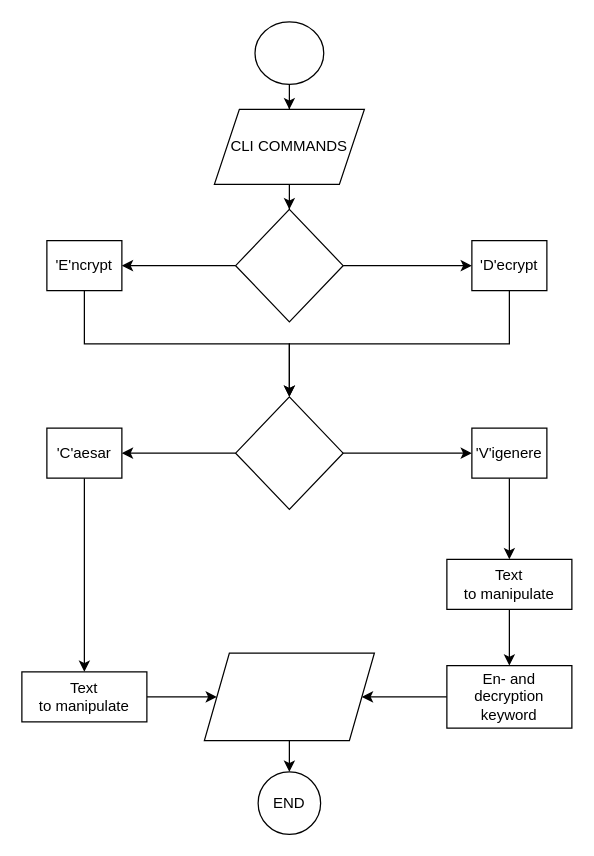
Some shapes in this 594 by 856 pixel diagram are drawn without their labels. Here are the shapes that lost their labels. From the top down, the centre of each, then its label:
(x=289, y=52): START
(x=288, y=265): 'E'ncrypt or 'D'ecrypt
(x=288, y=452): 'C'aesar or 'V'igenere
(x=288, y=696): Print new manipulated string
